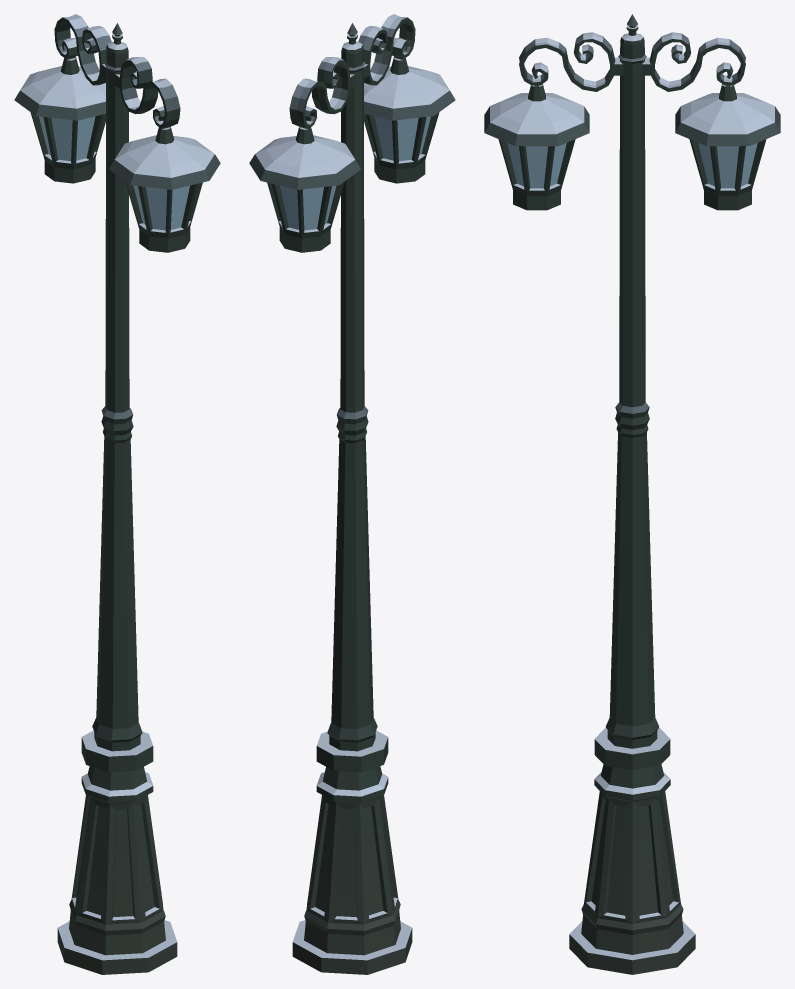
The model's file is streetlight_q.glb.
3 views of the same model, side by side, from view 1: azimuth 30°, elevation 25°; view 2: azimuth 150°, elevation 25°; view 3: azimuth 270°, elevation 25° (orthographic).
Visible parts, largest first — view 1: Prop; view 2: Prop; view 3: Prop.
Part boxes in pixels (x1=…): Prop: x1=14, y1=14, x2=220, y2=974; Prop: x1=249, y1=14, x2=455, y2=974; Prop: x1=484, y1=14, x2=780, y2=974.
Size of the model in its own units: 0.6586 by 5.5 by 1.58.
